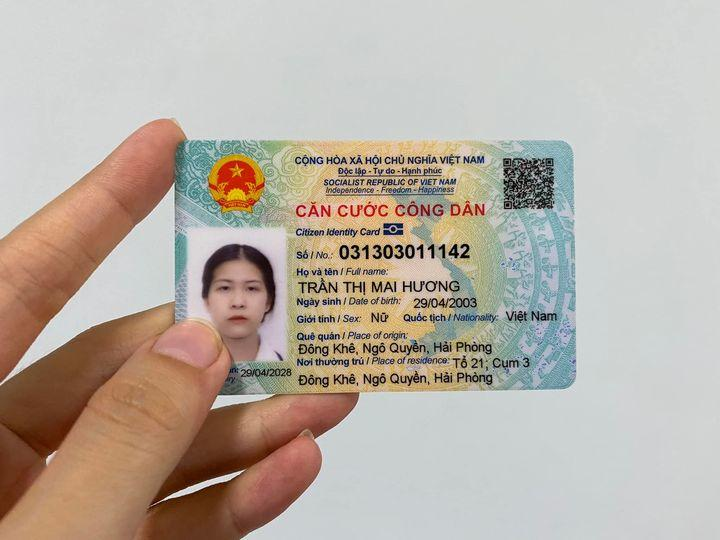bottom_right: (557, 370, 579, 393)
image_person: (180, 228, 288, 360)
top_left: (167, 137, 196, 165)
top_right: (555, 136, 579, 158)
